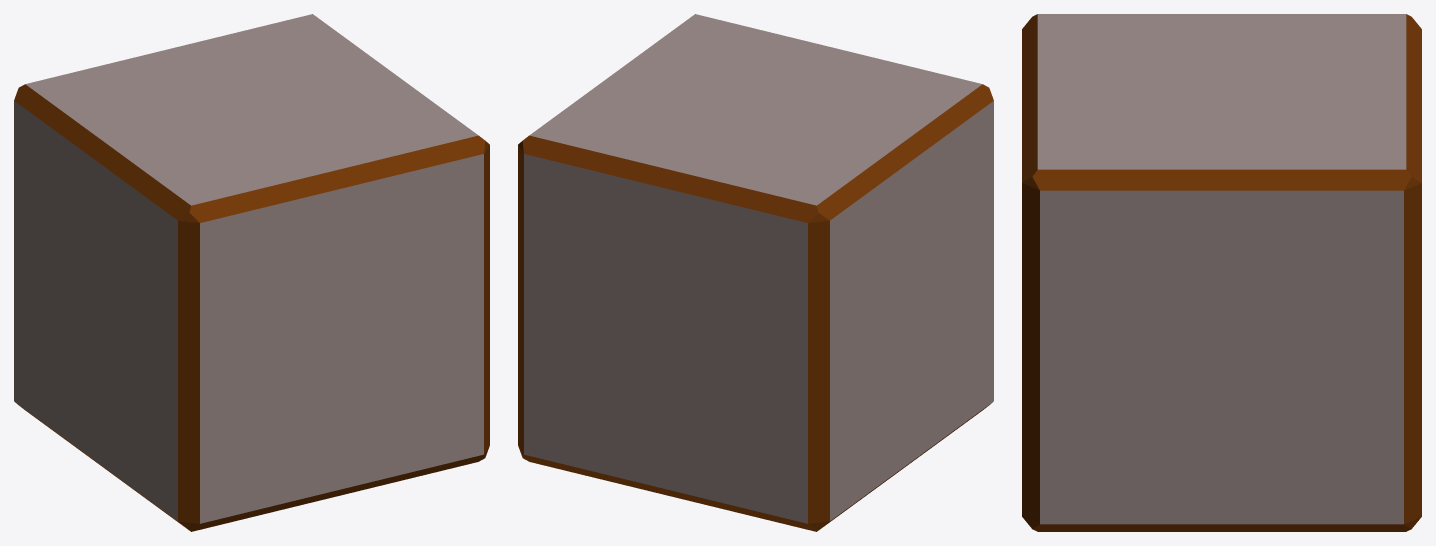
The picture shows the model from 3 angles, left to right: view 1: azimuth 30°, elevation 25°; view 2: azimuth 150°, elevation 25°; view 3: azimuth 270°, elevation 25°; orthographic projection. The views are drawn at different scales.
Visible parts, largest first — view 1: Cube; view 2: Cube; view 3: Cube.
Part boxes in pixels (x1,y1,x2,y2): Cube: [14, 14, 489, 531]; Cube: [518, 14, 993, 531]; Cube: [1022, 14, 1421, 531].
Bounding box in the file's own units: 200 × 200 × 200.
